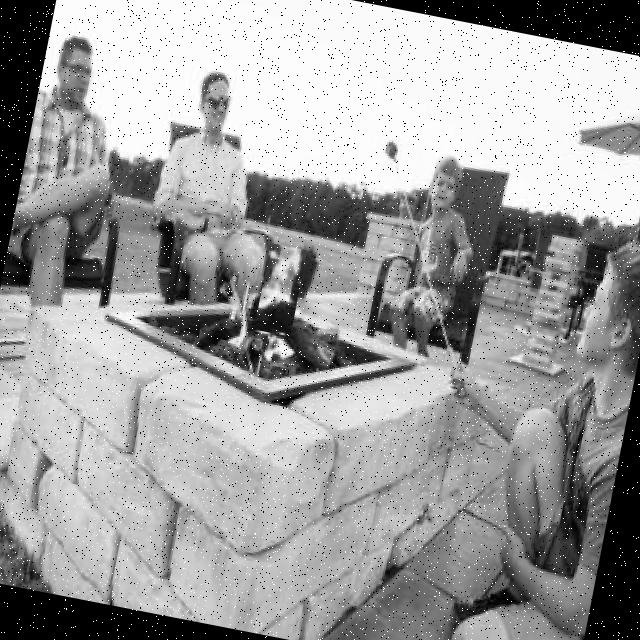fire: (254, 244, 307, 336)
